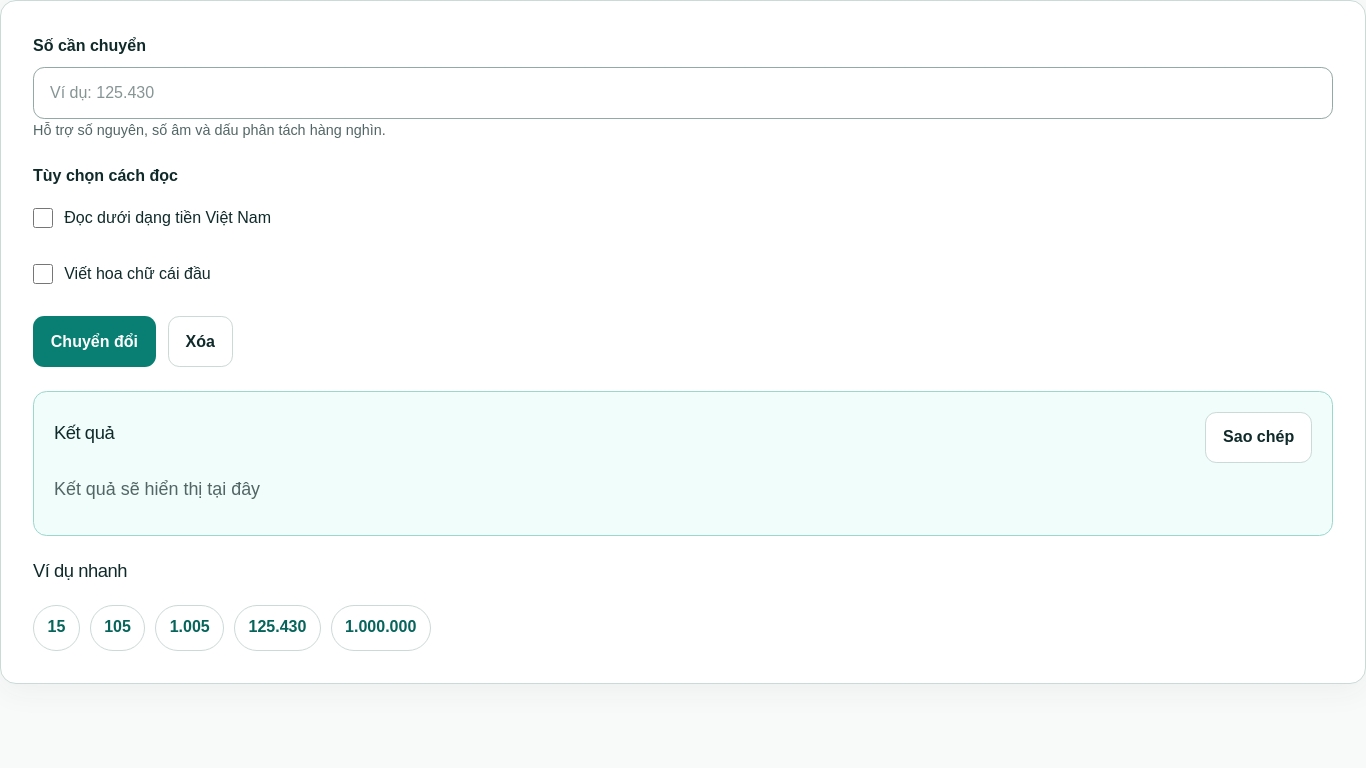
Test: NumberInputForm › converts input and clears the form
Type "125" into the field labelled "Số cần chuyển" at (683, 93), box [33,67,1333,119]
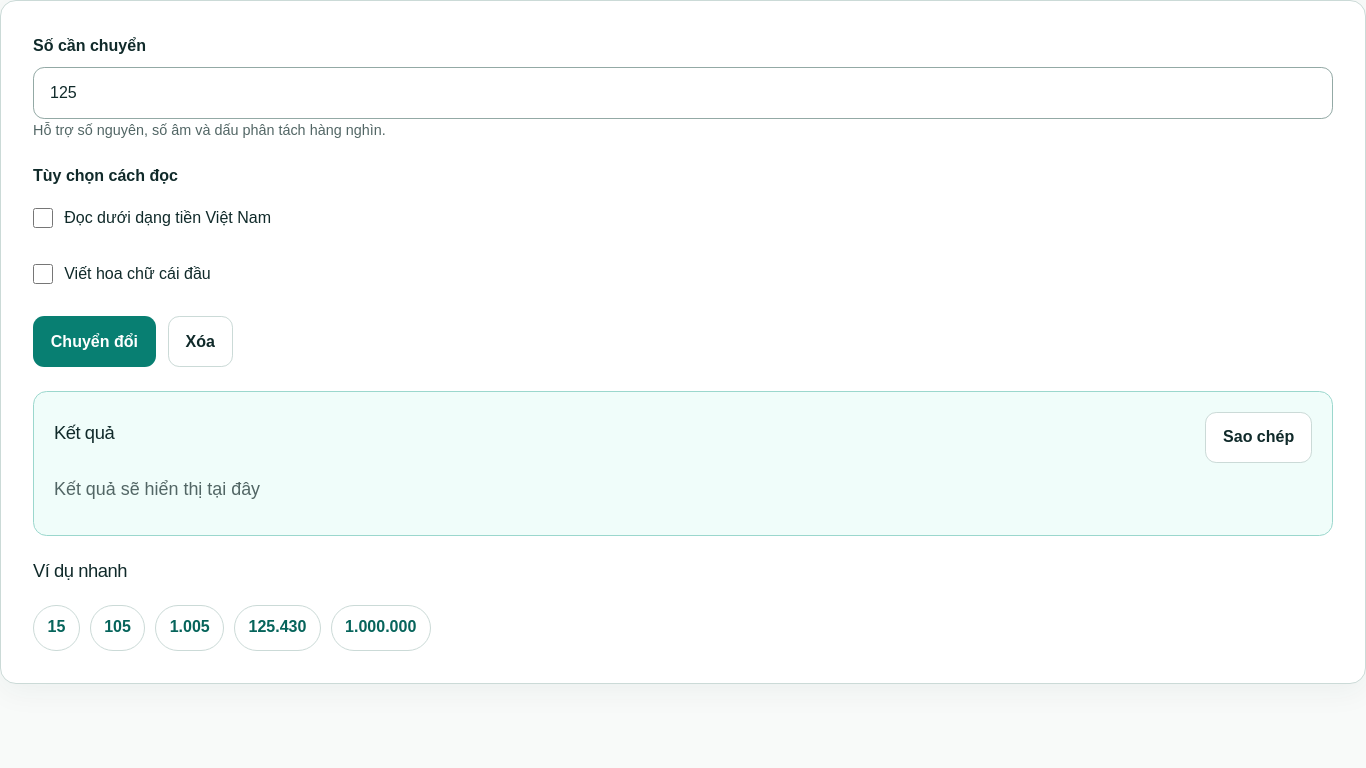
Click the button "Chuyển đổi" at (94, 342), box [33,316,156,367]
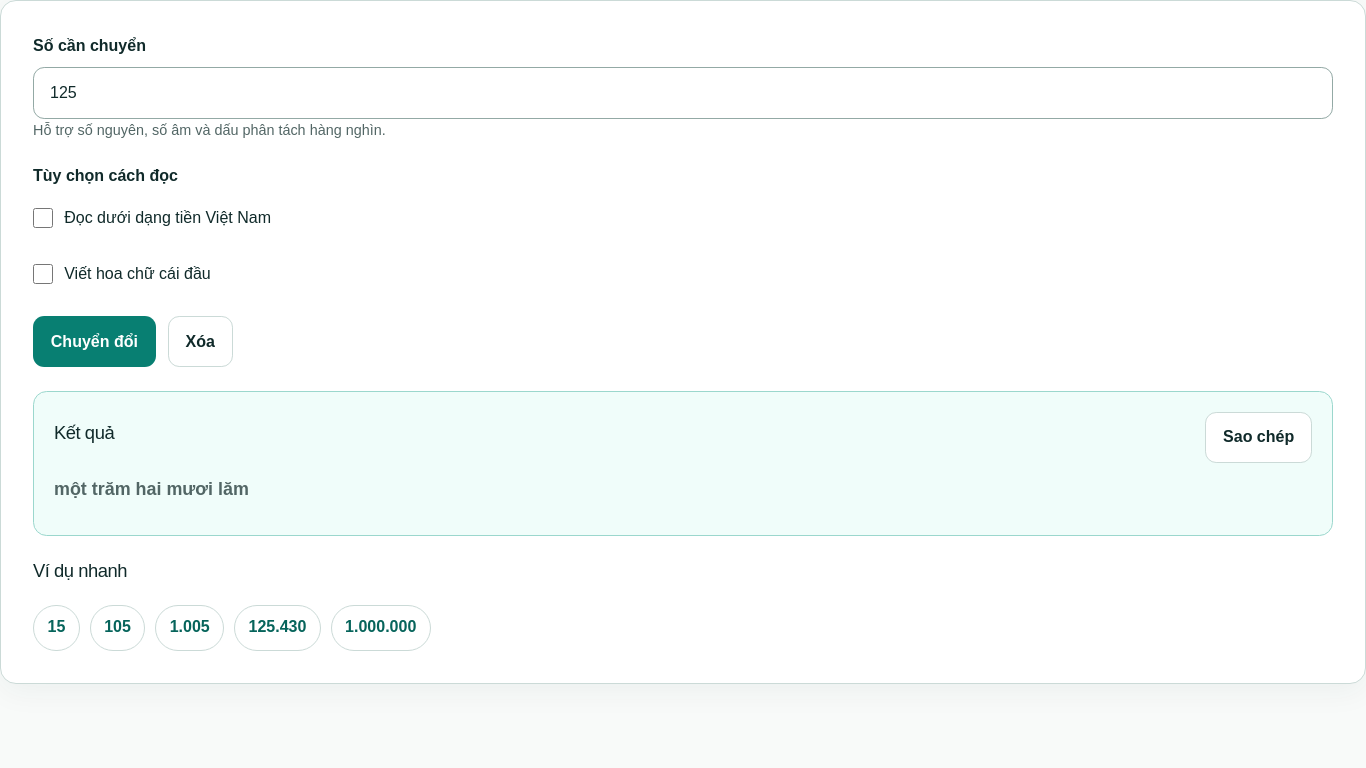
Check: the text "một trăm hai mươi lăm" is shown, box [54,479,249,499]
Click the button "Xóa" at (200, 342), box [168,316,233,367]
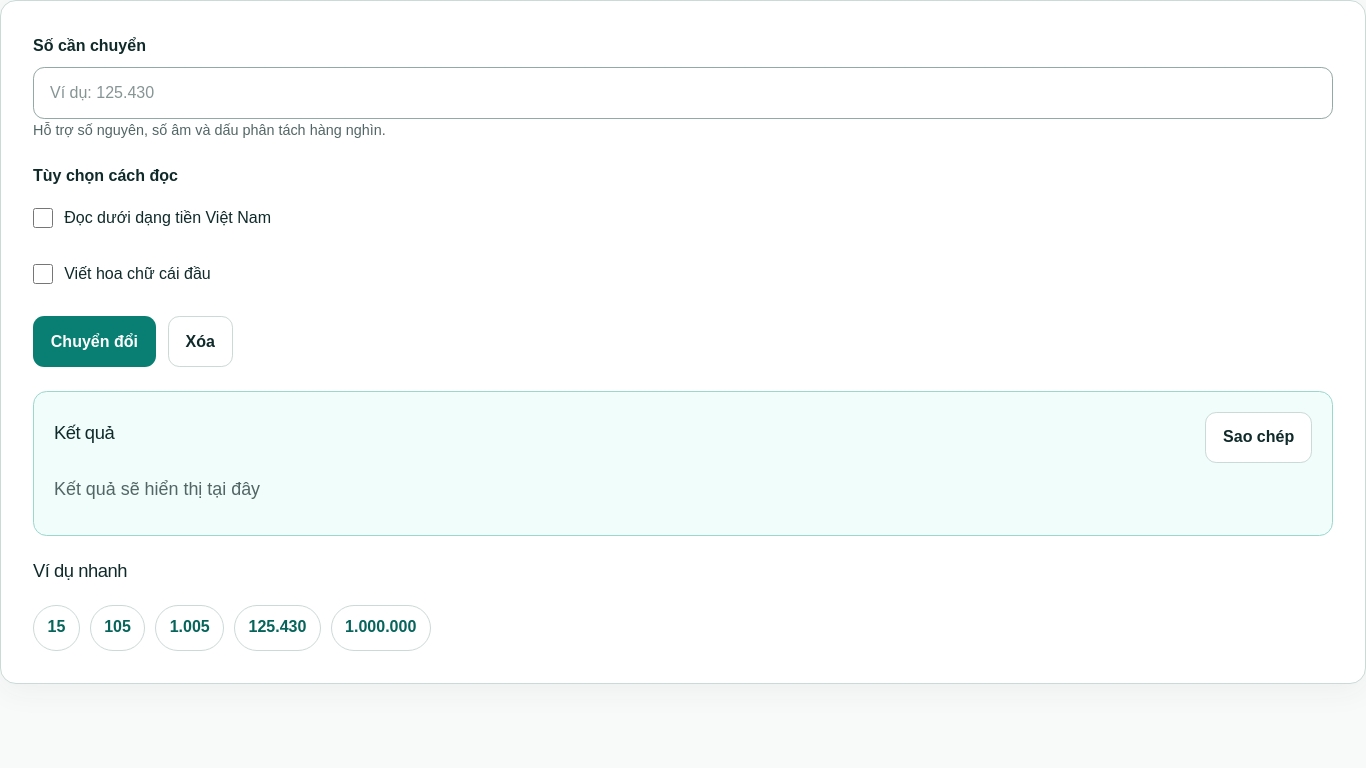
Check: the text "Kết quả sẽ hiển thị tại đây" is shown, box [54,479,260,499]
